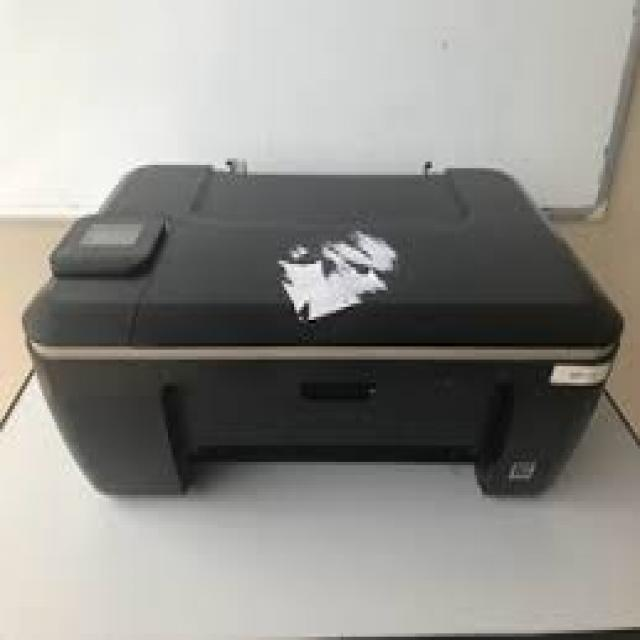printer: (17, 96, 640, 548)
